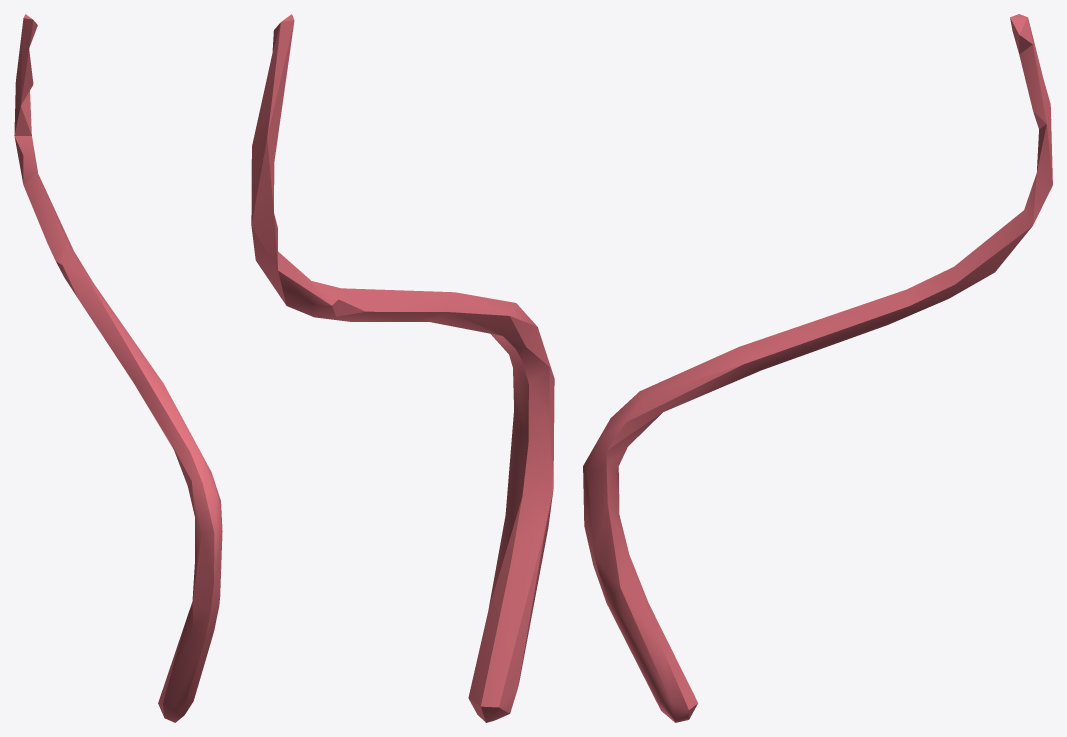
File: fma49575_fj4978.glb
3 renders of one model, left to right at view 1: azimuth 30°, elevation 25°; view 2: azimuth 150°, elevation 25°; view 3: azimuth 270°, elevation 25°, orthographic. The views are drawn at different scales.
Visible parts, largest first — view 1: FMA49575_FJ4978; view 2: FMA49575_FJ4978; view 3: FMA49575_FJ4978.
Part boxes in pixels (x1,y1,x2,y2): FMA49575_FJ4978: (14,14,222,722); FMA49575_FJ4978: (251,14,554,722); FMA49575_FJ4978: (583,14,1052,722).
Bounding box in the file's own units: 0.000634 × 0.0113 × 0.00683.
